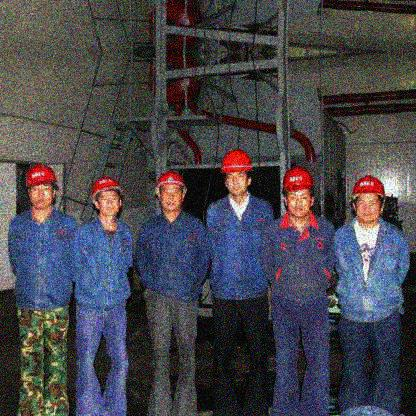helmet: (281, 163, 317, 220), (21, 162, 59, 211), (218, 148, 255, 195), (352, 174, 386, 221), (154, 170, 189, 212), (91, 175, 123, 217)
